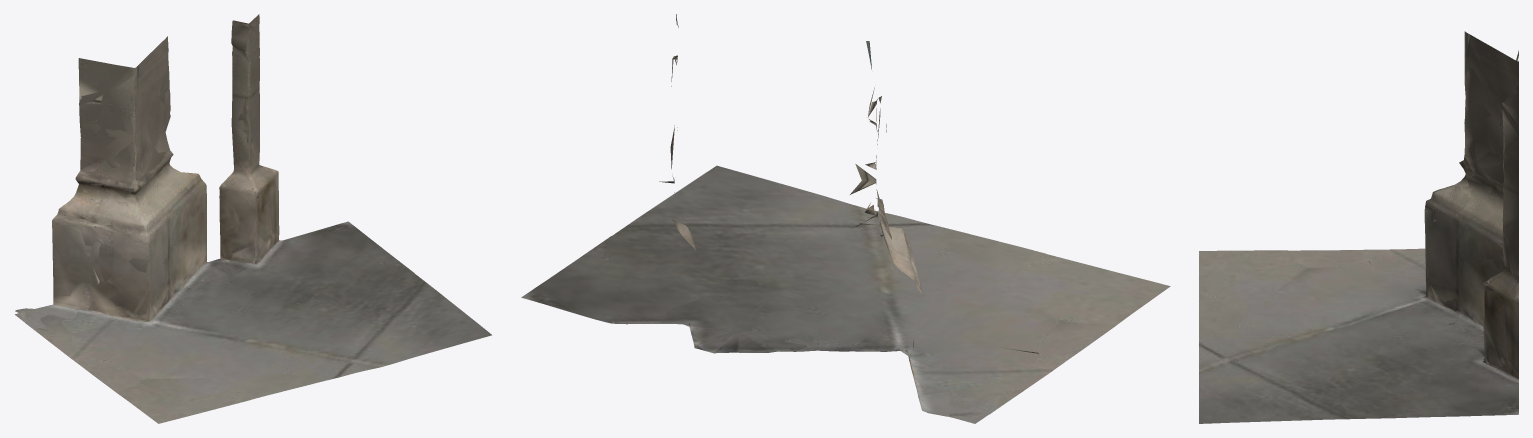
The picture shows the model from 3 angles, left to right: view 1: azimuth 30°, elevation 25°; view 2: azimuth 150°, elevation 25°; view 3: azimuth 270°, elevation 25°; orthographic projection. The views are drawn at different scales.
Bounding box in the file's own units: 2.2 × 1.55 × 1.65.
1 material, 1 textured.
